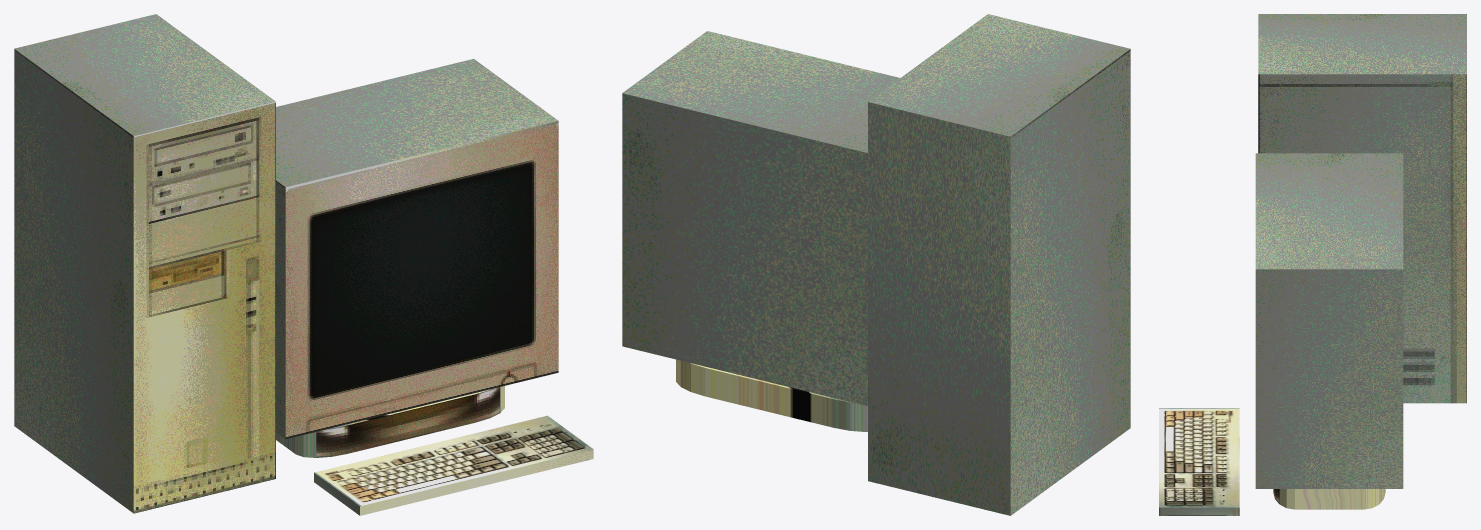
The picture shows the model from 3 angles, left to right: view 1: azimuth 30°, elevation 25°; view 2: azimuth 150°, elevation 25°; view 3: azimuth 270°, elevation 25°; orthographic projection. The views are drawn at different scales.
Visible parts, largest first — view 1: env_pc-col; view 2: env_pc-col; view 3: env_pc-col.
Part boxes in pixels (x1,y1,x2,y2): env_pc-col: (14, 14, 593, 515); env_pc-col: (622, 14, 1130, 515); env_pc-col: (1159, 14, 1466, 515).
Bounding box in the file's own units: 1.14 × 0.9737 × 0.8216.
Materials: 1 (1 with a texture image).
